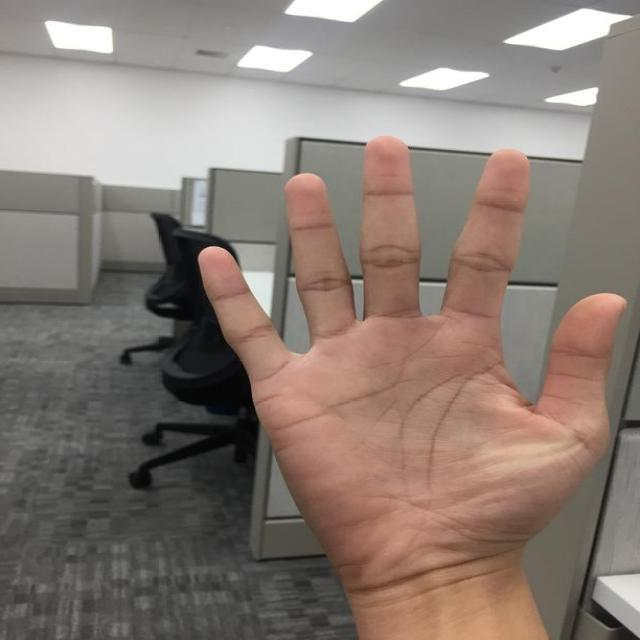hand: (197, 135, 628, 582)
